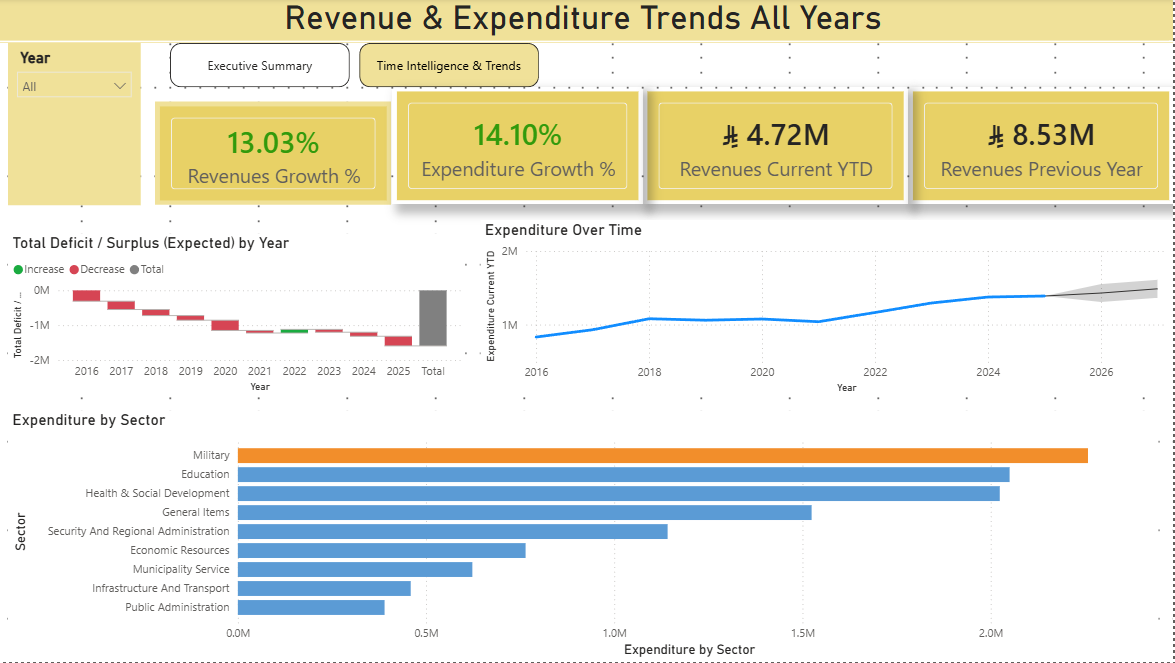

The page's visual inventory and layout, read from the dashboard file:
{"tool":"powerbi","page":{"name":"Time Intelligence & Trends","canvas":[1280,720],"ordinal":1},"visuals":[{"type":"textbox","box":[0.6,0.2,1280,48],"z":0},{"type":"slicer","fields":{"Values":["Calendar.Year"]},"box":[16,48,144,176],"z":1000},{"type":"pageNavigator","box":[192,48,400,48],"z":2000},{"type":"clusteredBarChart","title":"Expenditure by Sector","fields":{"Category":["Saudi_Gov_Finance.Sector"],"Y":["Calendar.Expenditure by Sector"]},"box":[16,448,1248,272],"z":3000},{"type":"cardVisual","fields":{"Data":["Saudi_Gov_Finance.Previous Month Total"]},"box":[992,96,288,128],"z":4000},{"type":"cardVisual","fields":{"Data":["Saudi_Gov_Finance.Revenues Curent YTD"]},"box":[704,96,288,128],"z":5000},{"type":"cardVisual","fields":{"Data":["Saudi_Gov_Finance.Revenues Groth %"]},"box":[176,112,256,112],"z":6000},{"type":"waterfallChart","fields":{"Category":["Calendar.Year"],"Y":["Saudi_Gov_Finance.Total Deficit / Surplus (Expected)"]},"box":[16,256,496,176],"z":7000},{"type":"cardVisual","fields":{"Data":["Saudi_Gov_Finance.Expenditure Groth %"]},"box":[432,96,272,128],"z":8000},{"type":"lineChart","title":"Expenditure Over Time","fields":{"Category":["Calendar.Year"],"Y":["Saudi_Gov_Finance.Expenditure Current YTD"]},"box":[528,240,752,192],"z":9000}]}

Visuals, with their boxes in screenshot pixels (x1, y1, x2, y2), scaled from the page's 1280x720 canvas onto the 1175x663 screenshot:
textbox: [left=1, top=0, right=1174, bottom=44]
slicer - Calendar.Year: [left=15, top=44, right=147, bottom=206]
pageNavigator: [left=176, top=44, right=543, bottom=88]
"Expenditure by Sector" clusteredBarChart: [left=15, top=413, right=1160, bottom=662]
cardVisual - Saudi_Gov_Finance.Previous Month Total: [left=911, top=88, right=1174, bottom=206]
cardVisual - Saudi_Gov_Finance.Revenues Curent YTD: [left=646, top=88, right=911, bottom=206]
cardVisual - Saudi_Gov_Finance.Revenues Groth %: [left=162, top=103, right=397, bottom=206]
waterfallChart - Calendar.Year x Saudi_Gov_Finance.Total Deficit / Surplus (Expected): [left=15, top=236, right=470, bottom=398]
cardVisual - Saudi_Gov_Finance.Expenditure Groth %: [left=397, top=88, right=646, bottom=206]
"Expenditure Over Time" lineChart: [left=485, top=221, right=1174, bottom=398]
